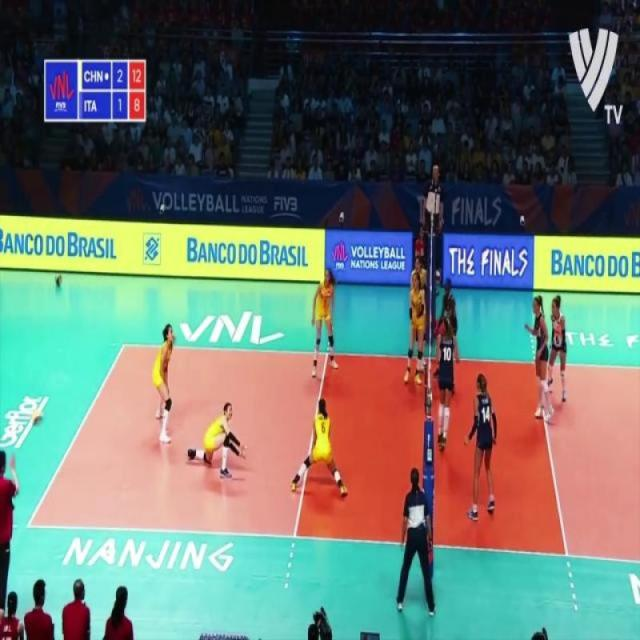volleyball: (32, 412, 44, 426), (56, 272, 62, 288)
